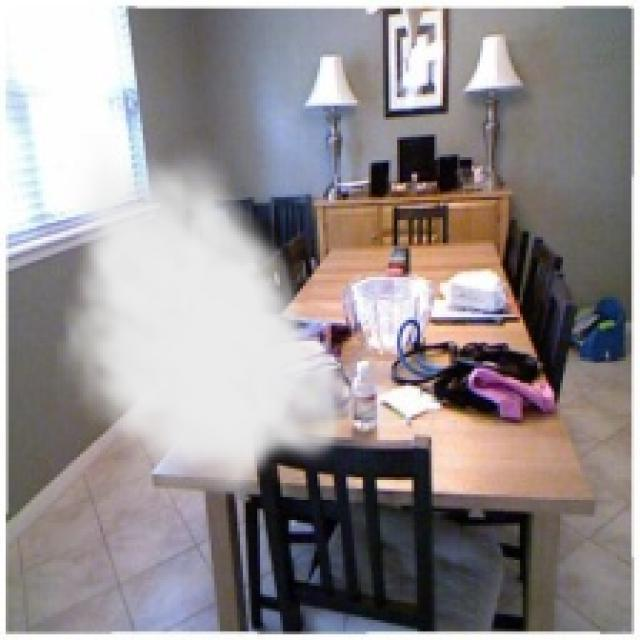Smoke: (54, 134, 414, 506)
